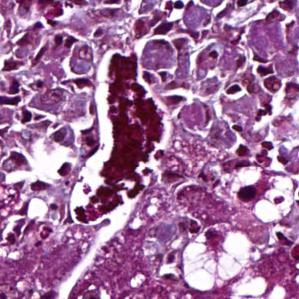ballooning: (181, 222, 255, 291), (223, 163, 299, 225)
